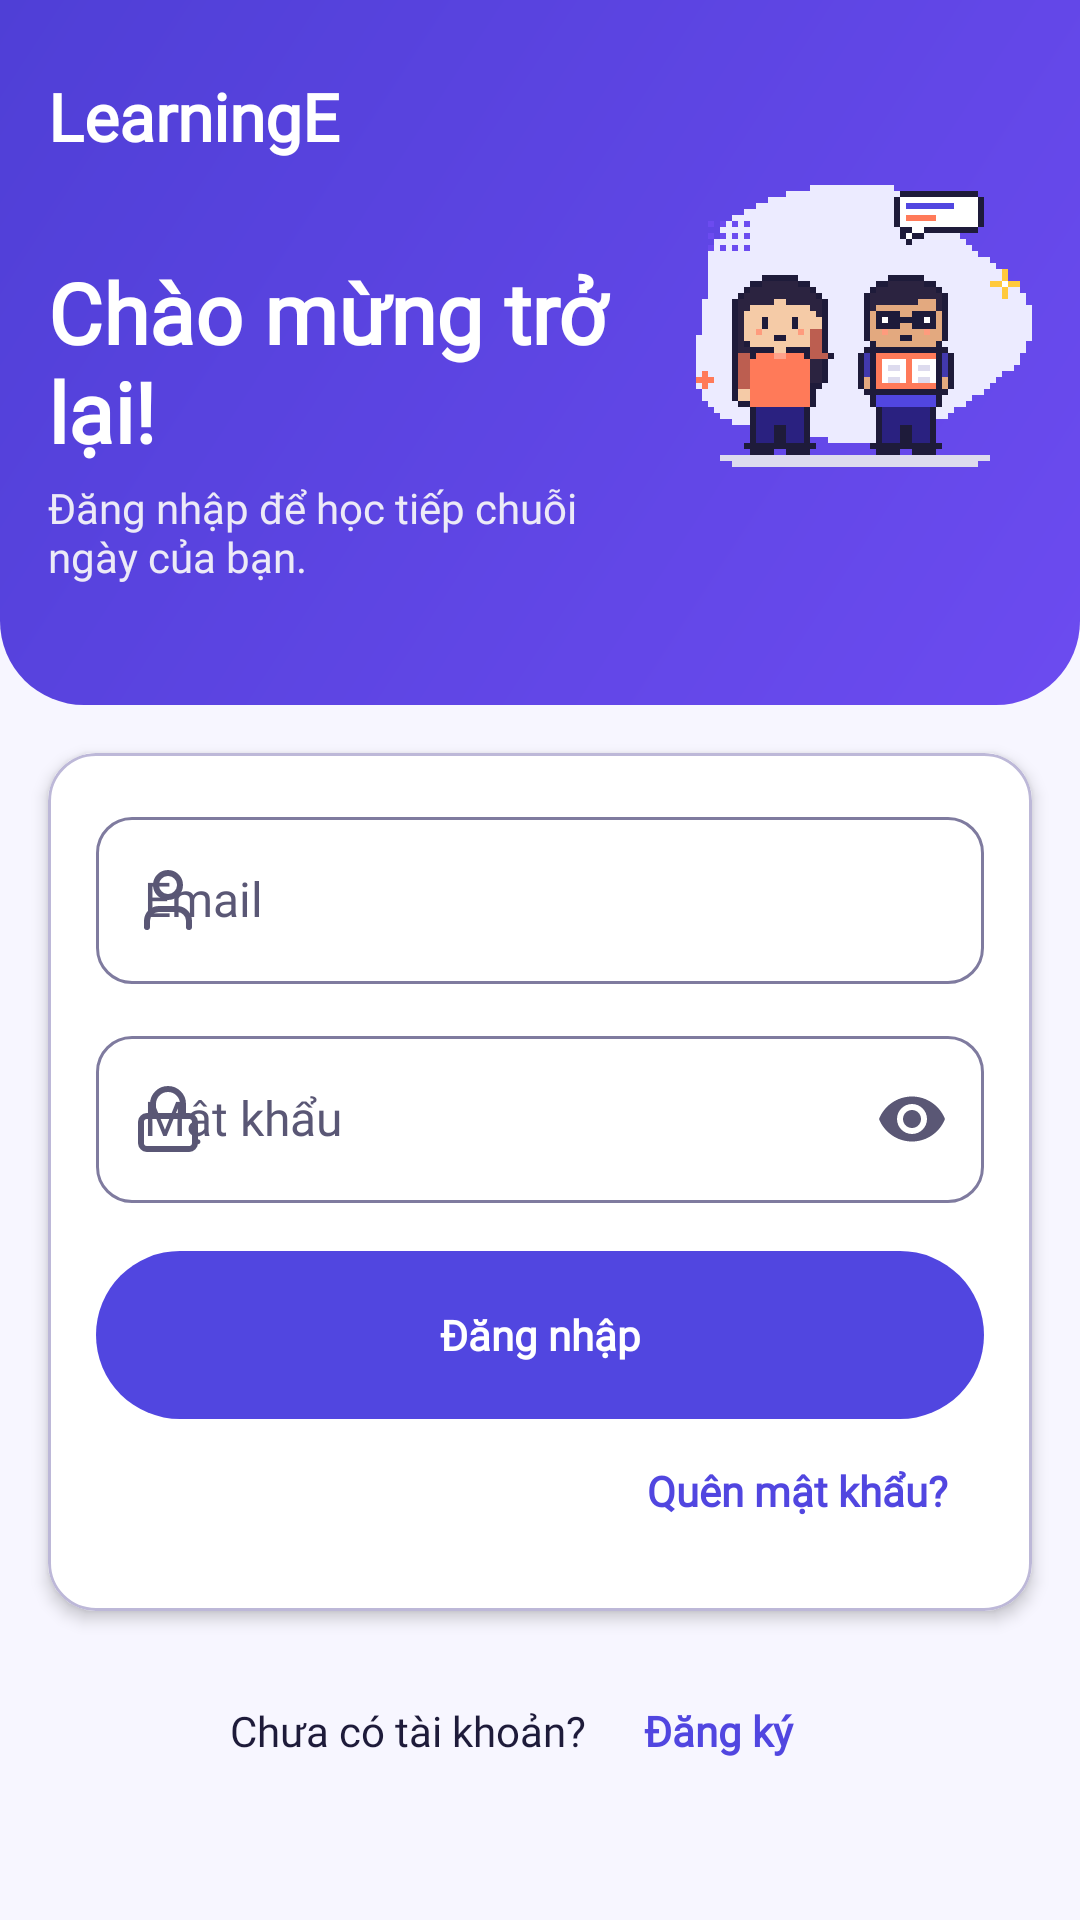

Icons on this 1080px×1920px Android screen, each with its box as [left=x1, top=y1, right=x2, bottom=y2]:
ill welcome student: [left=696, top=185, right=1032, bottom=467]
